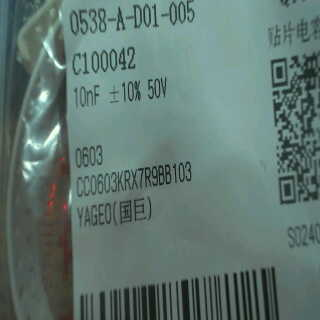10nF: (71, 78, 106, 111)
